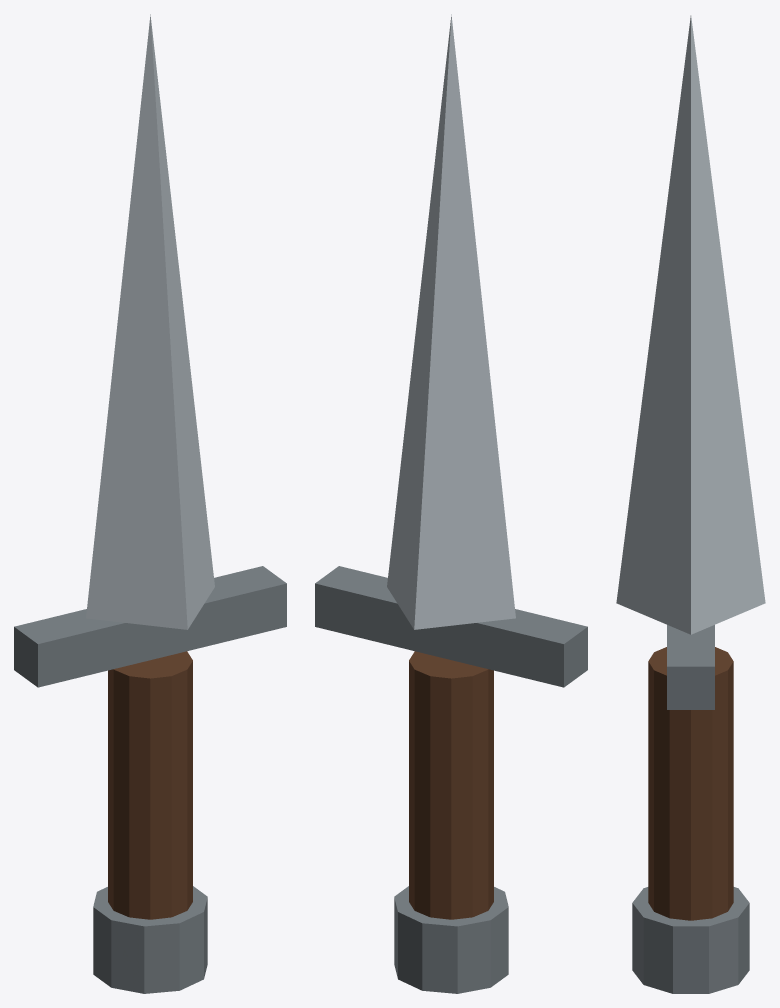
Rendered from long-sword.glb.
3 views of the same model, side by side, from view 1: azimuth 30°, elevation 25°; view 2: azimuth 150°, elevation 25°; view 3: azimuth 270°, elevation 25° (orthographic).
Parts seen in each view (by area): view 1: tapered_blade, leather_grip, crossguard, pommel; view 2: tapered_blade, leather_grip, crossguard, pommel; view 3: tapered_blade, leather_grip, pommel, crossguard.
Part boxes in pixels (x1,y1,x2,y2): tapered_blade: (86,14,214,629); leather_grip: (108,651,192,919); crossguard: (14,566,286,687); pommel: (93,886,207,993); tapered_blade: (387,14,515,629); leather_grip: (409,651,493,919); crossguard: (315,566,587,687); pommel: (394,886,508,993); tapered_blade: (616,15,765,634); leather_grip: (648,647,733,920); pommel: (632,887,749,993); crossguard: (667,625,714,709).
Size of the model in its own units: 0.27 by 0.99 by 0.14.
